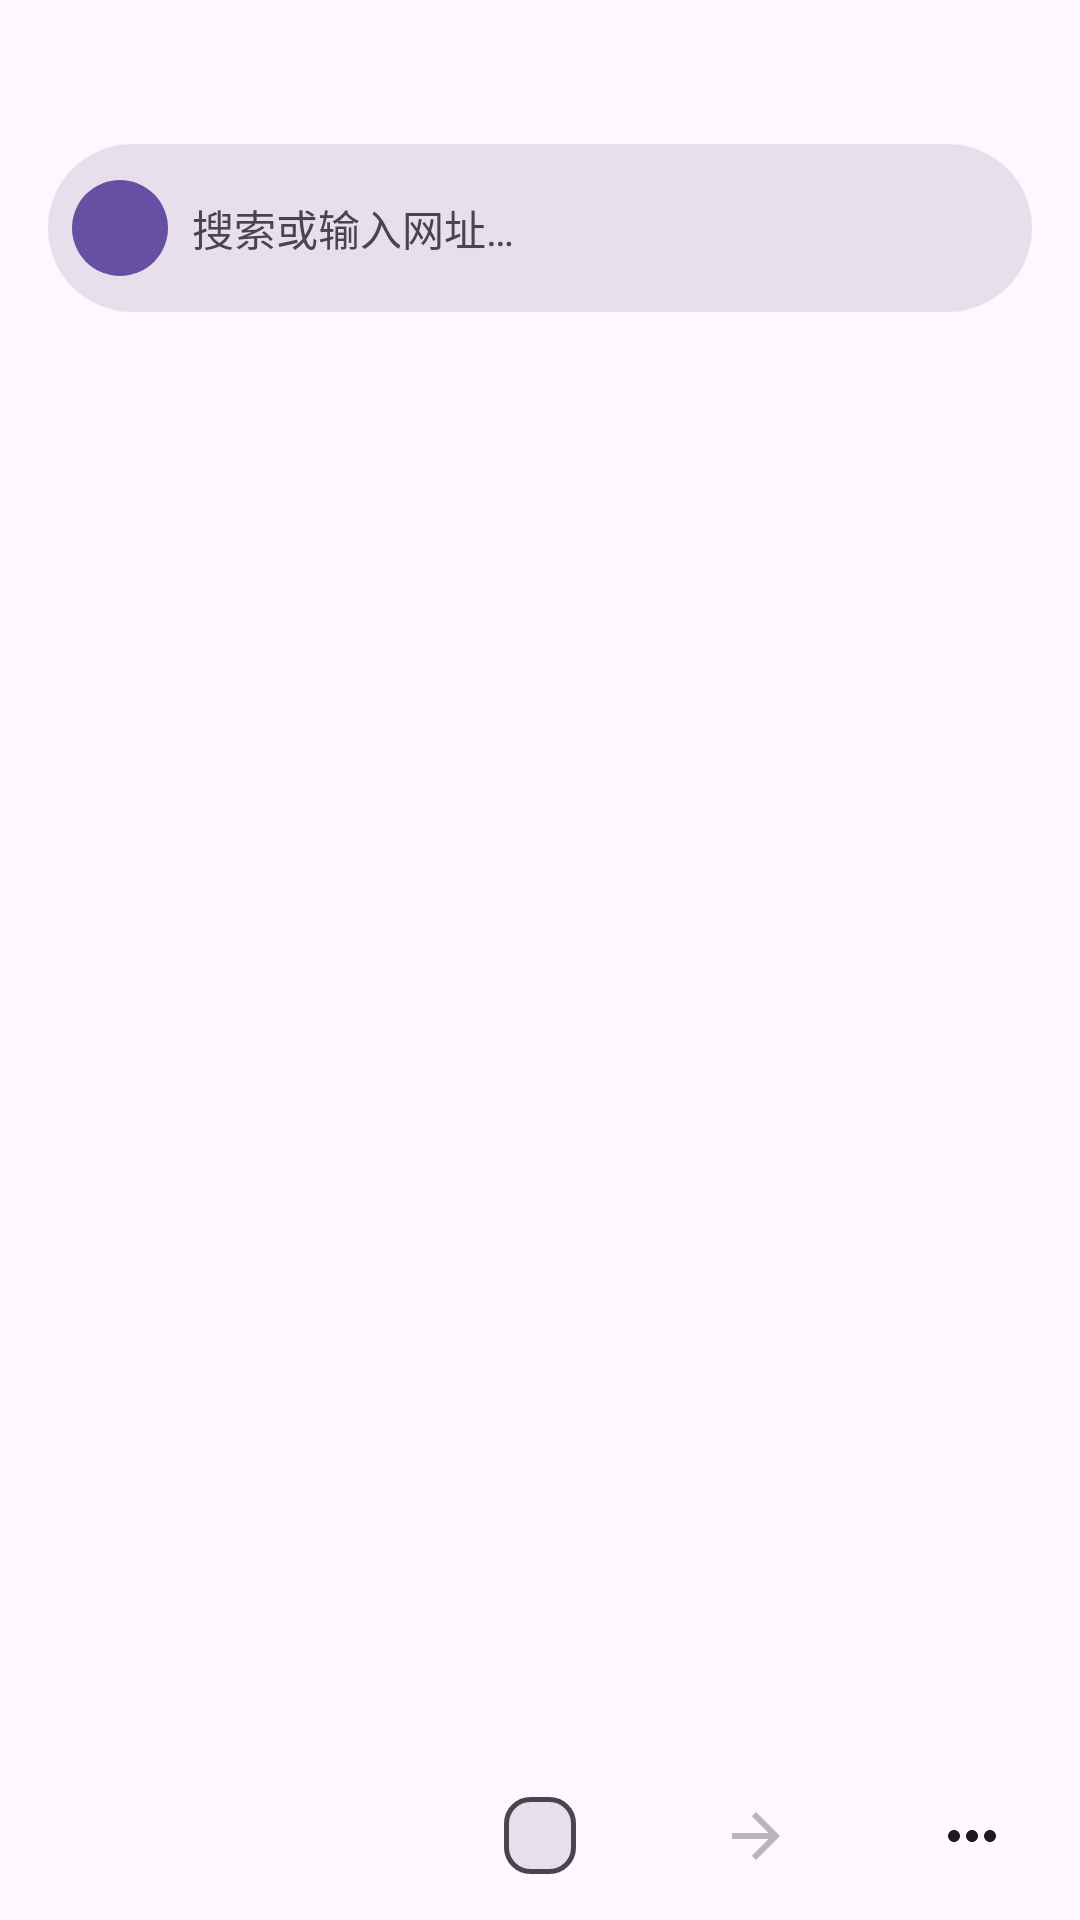

Where icons sit on this 1080px×1920px app screen, as [x1, y1, x2, y2]:
forward: [732, 1812, 780, 1860]
more: [948, 1830, 996, 1842]
